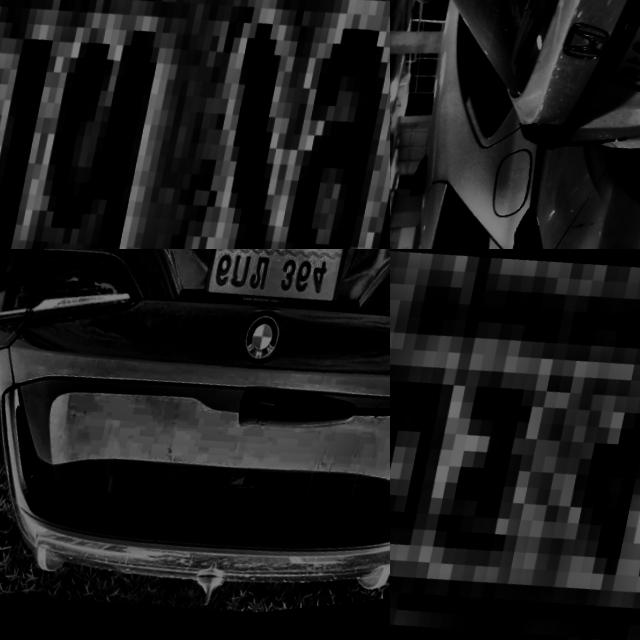license-plate: (390, 249, 640, 640), (0, 0, 390, 249), (201, 249, 358, 331)
